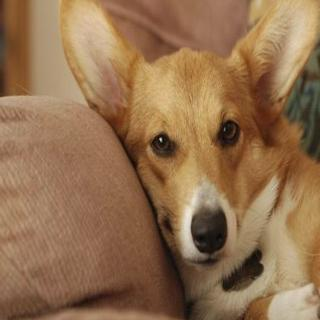dog: (63, 0, 320, 266)
nose: (186, 204, 229, 256)
